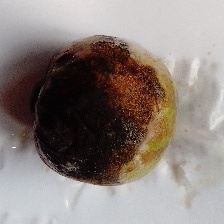guava: (34, 17, 184, 200)
